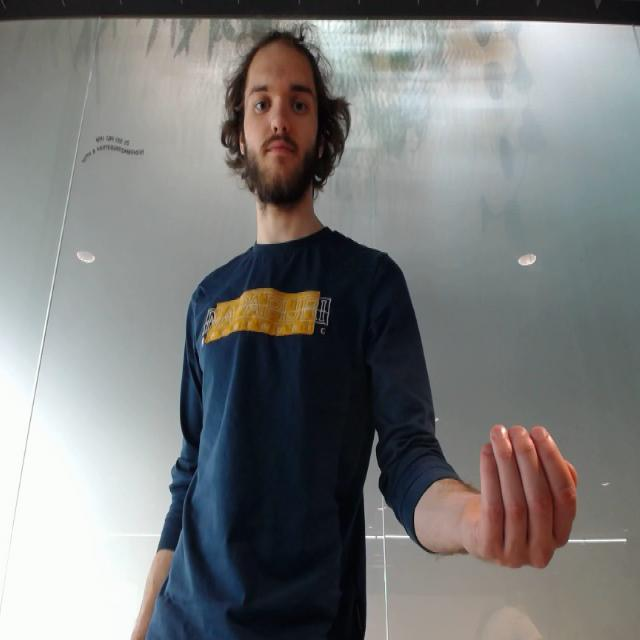forward: (465, 416, 583, 576)
